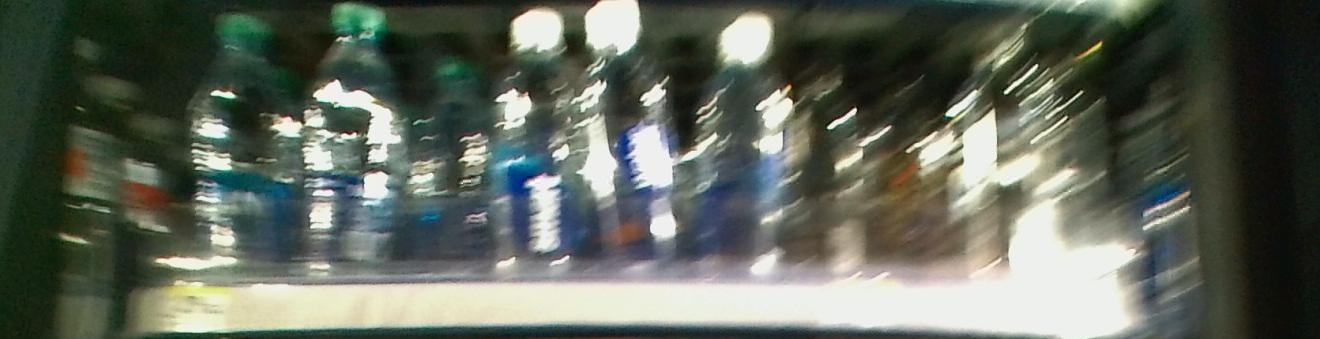bottle: (183, 13, 294, 277), (301, 8, 399, 281), (699, 15, 790, 273), (586, 1, 669, 280), (499, 7, 579, 272), (407, 48, 493, 272)
